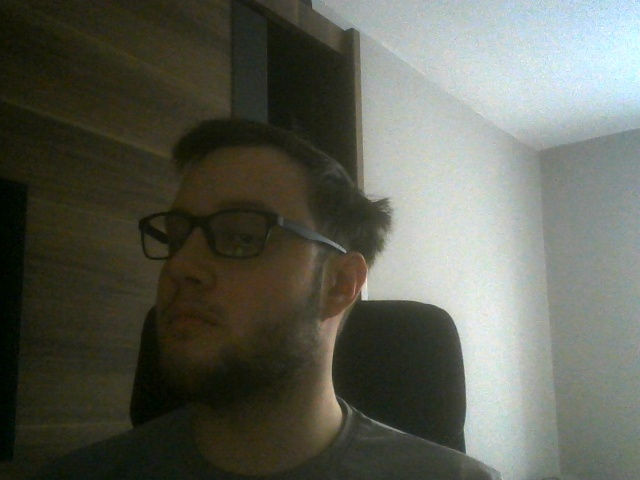neutral: (137, 121, 368, 403)
